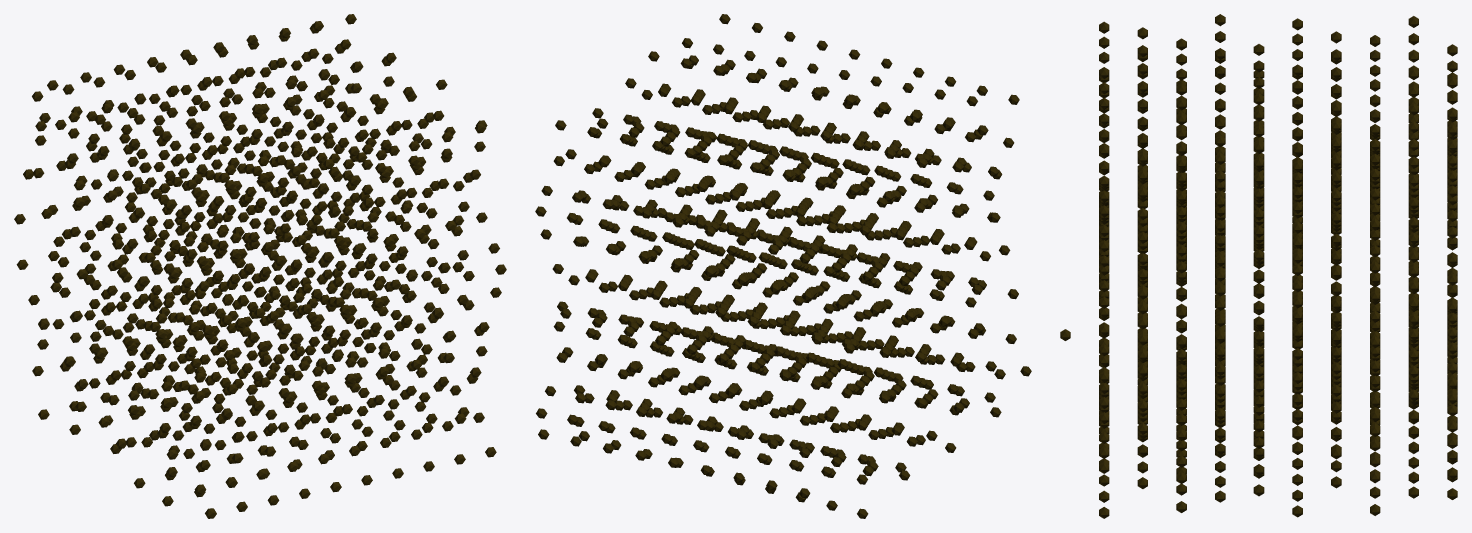
The model's file is oscillation_timeseries.glb.
3 renders of one model, left to right at view 1: azimuth 30°, elevation 25°; view 2: azimuth 150°, elevation 25°; view 3: azimuth 270°, elevation 25°, orthographic. The views are drawn at different scales.
Size of the model in its own units: 50.36 by 50.36 by 51.36.
